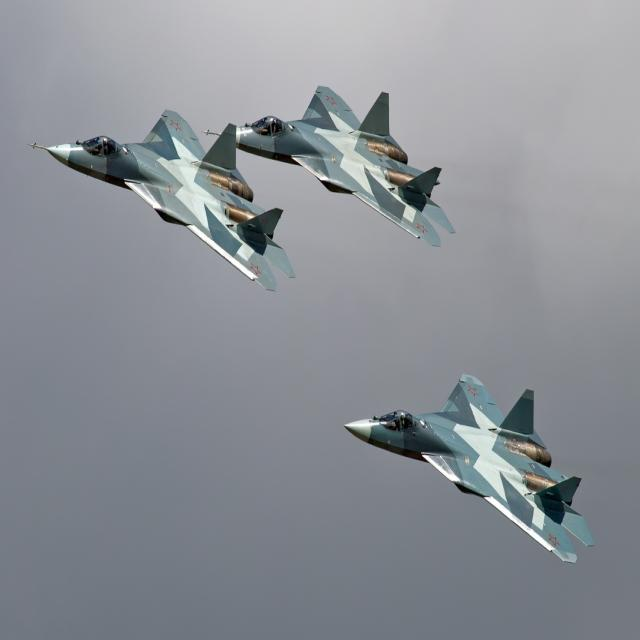MIL_Plane: (27, 109, 296, 292), (343, 373, 594, 564), (201, 85, 457, 248)
